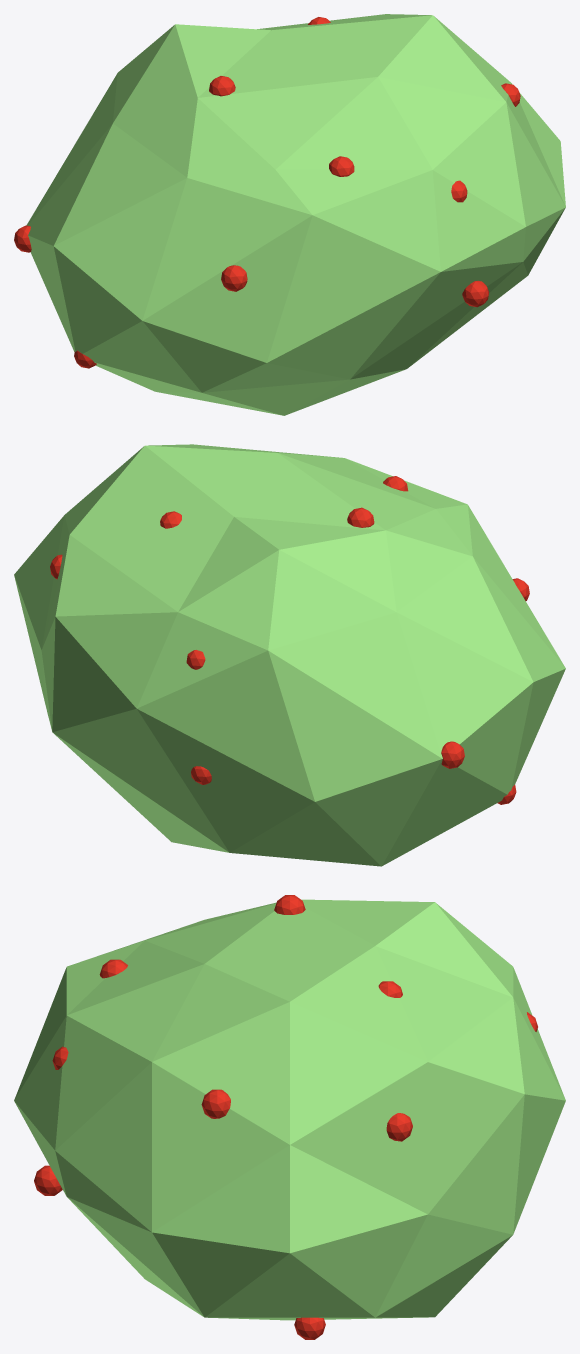
Rendered from berry bush 2.fbx.
The picture shows the model from 3 angles, top to bottom: view 1: azimuth 30°, elevation 25°; view 2: azimuth 150°, elevation 25°; view 3: azimuth 270°, elevation 25°; orthographic projection. The views are drawn at different scales.
Visible parts, largest first — view 1: Bush w berries; view 2: Bush w berries; view 3: Bush w berries.
Boxes of the visible parts, box(x1,y1,x2,y2) form: Bush w berries: box(14, 14, 565, 415); Bush w berries: box(14, 444, 565, 866); Bush w berries: box(14, 895, 565, 1339).
Size of the model in its own units: 480 by 297 by 394.
